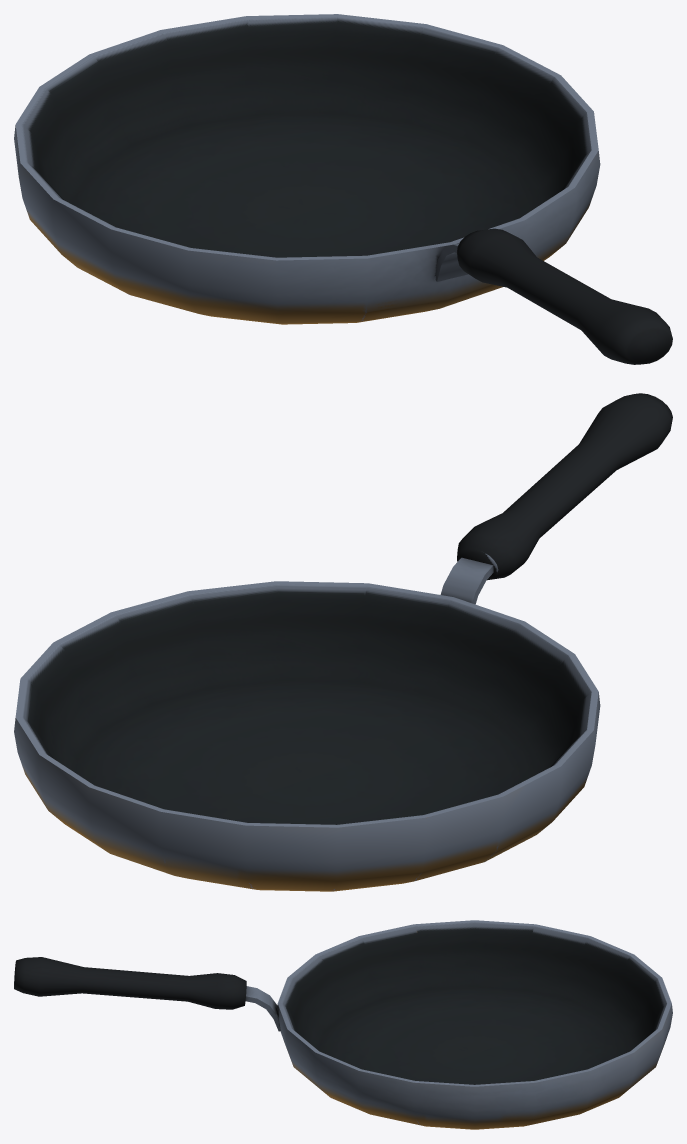
The model's file is pan.fbx.
The picture shows the model from 3 angles, top to bottom: view 1: azimuth 30°, elevation 25°; view 2: azimuth 150°, elevation 25°; view 3: azimuth 270°, elevation 25°; orthographic projection. The views are drawn at different scales.
Parts seen in each view (by area): view 1: pCylinder7; view 2: pCylinder7; view 3: pCylinder7.
Boxes of the visible parts, <box> form: pCylinder7: <box>14,14,672,364</box>; pCylinder7: <box>14,393,672,891</box>; pCylinder7: <box>14,920,672,1129</box>.
Bounding box in the file's own units: 72.09 × 20.83 × 120.
